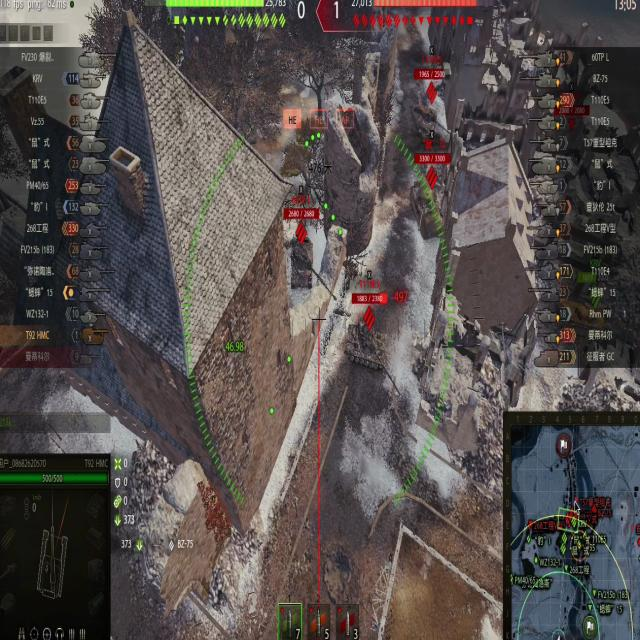tank: (281, 208, 322, 300), (347, 292, 389, 371), (414, 152, 446, 242), (416, 68, 446, 146)
